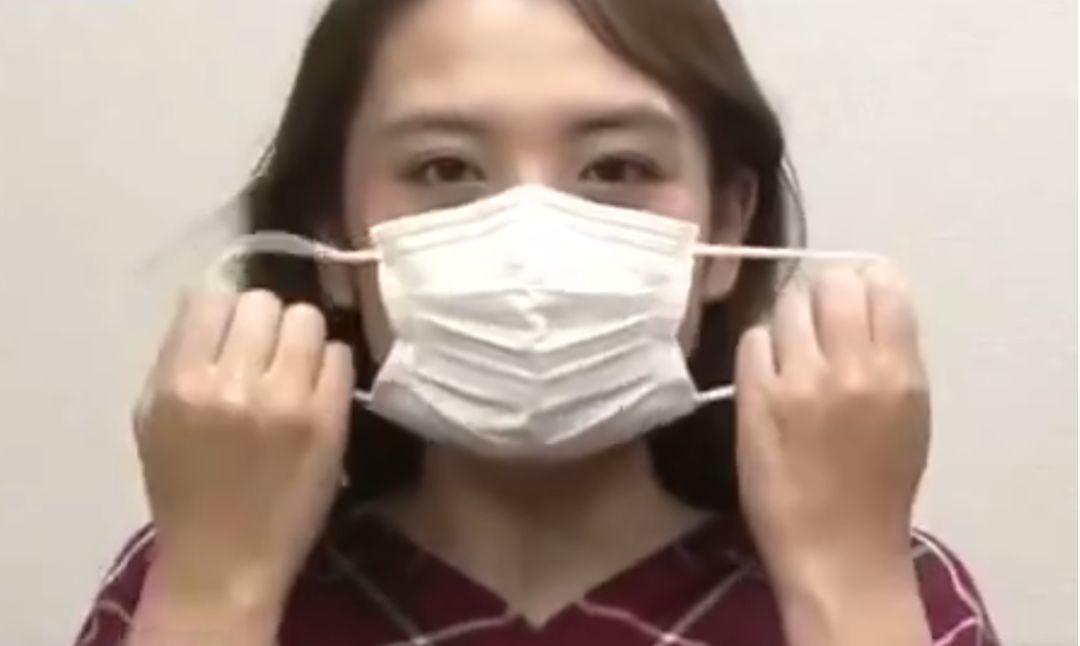mask: (331, 119, 830, 519)
